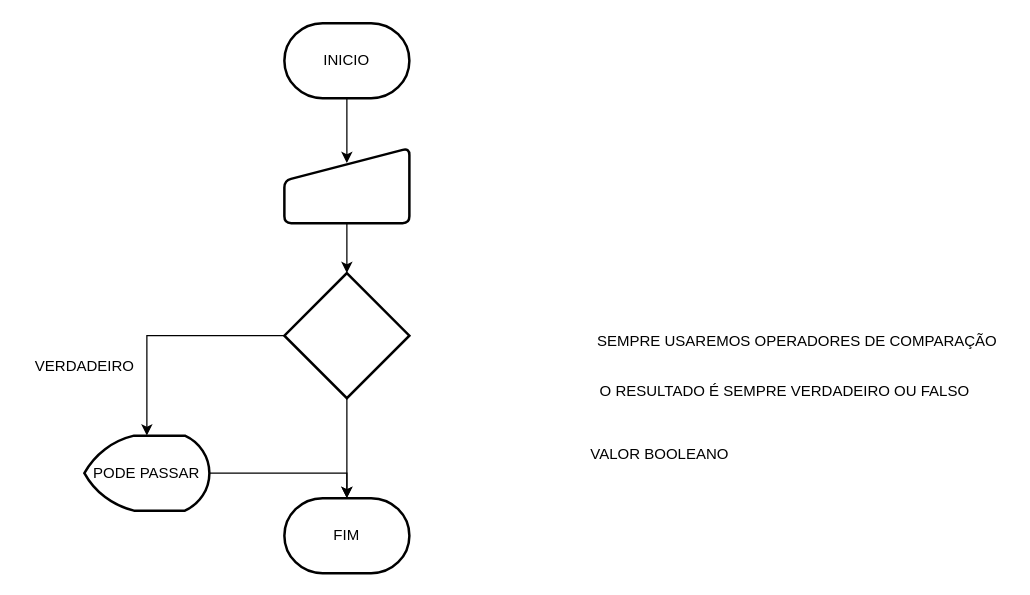
Image size: 1030x595. Some labels were removed from this diagram. Each missing label, with the centre of its shape:
"IDADE" belongs at point 346,185.
"IDADE>=18" belongs at point 346,335.
